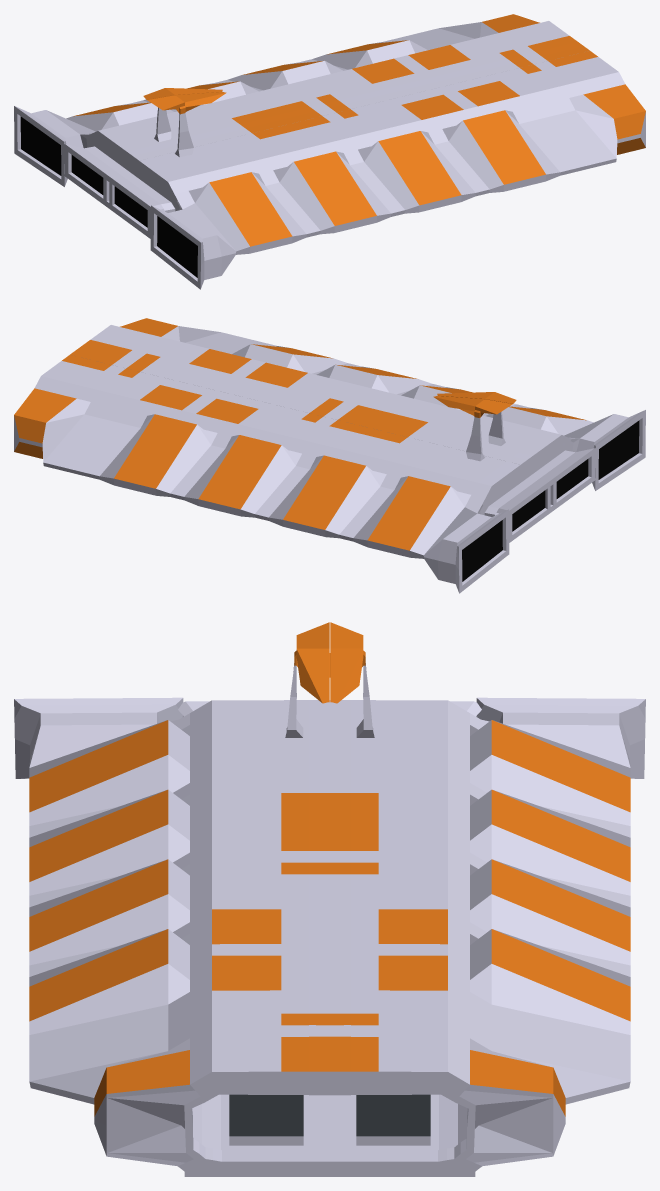
Rendered from Space.fbx.
3 views of the same model, one above another, from view 1: azimuth 30°, elevation 25°; view 2: azimuth 150°, elevation 25°; view 3: azimuth 270°, elevation 25° (orthographic). The views are drawn at different scales.
Visible parts, largest first — view 1: Cube; view 2: Cube; view 3: Cube.
Boxes of the visible parts, left/top/right/bottom form: Cube: left=14, top=14, right=645, bottom=289; Cube: left=14, top=318, right=645, bottom=593; Cube: left=14, top=622, right=645, bottom=1176.
Size of the model in its own units: 640 by 155 by 435.
